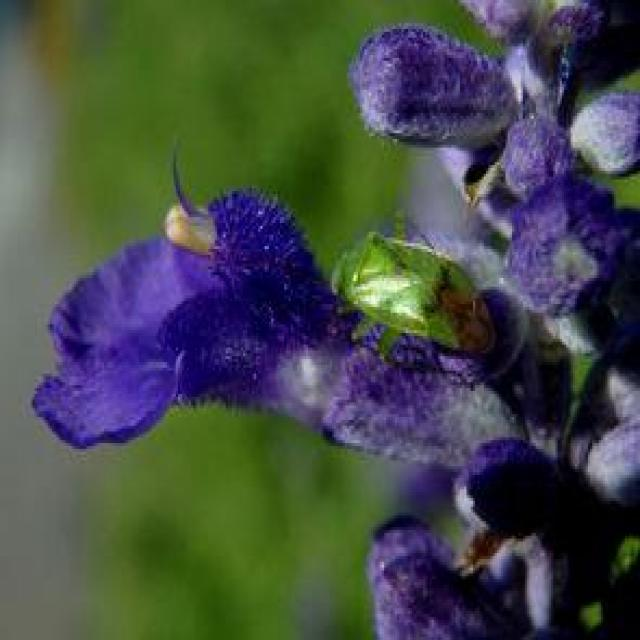Miridae-Adult-: (318, 204, 502, 399)
